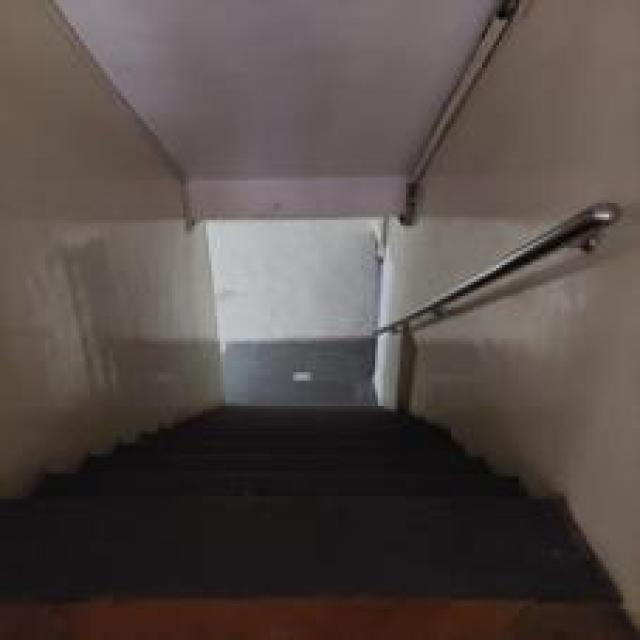downstair: (108, 373, 480, 562)
